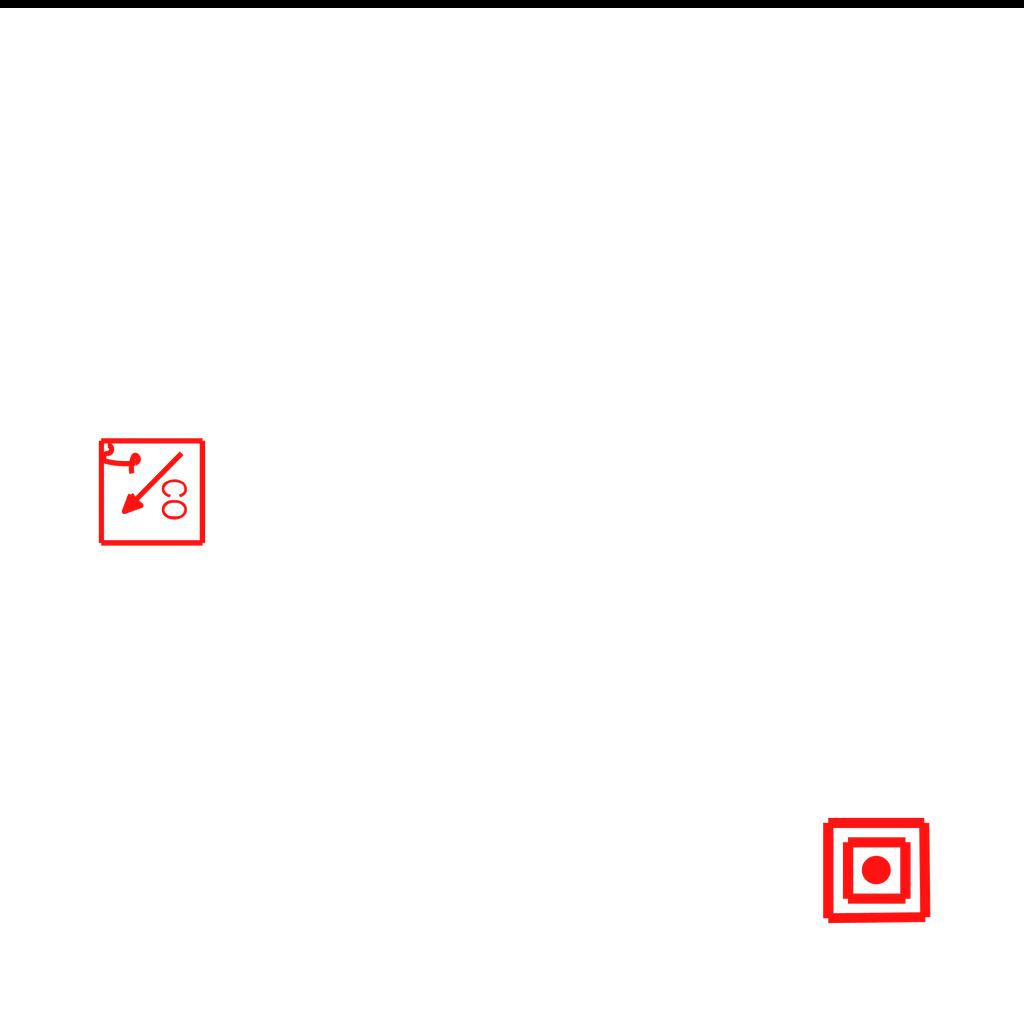NAM-Nichtautomatischer_Melder: (820, 814, 933, 927)
ROA_Rauchmelder_optisch_mit_Signalgeber_(Sockelsirene): (94, 436, 207, 549)
